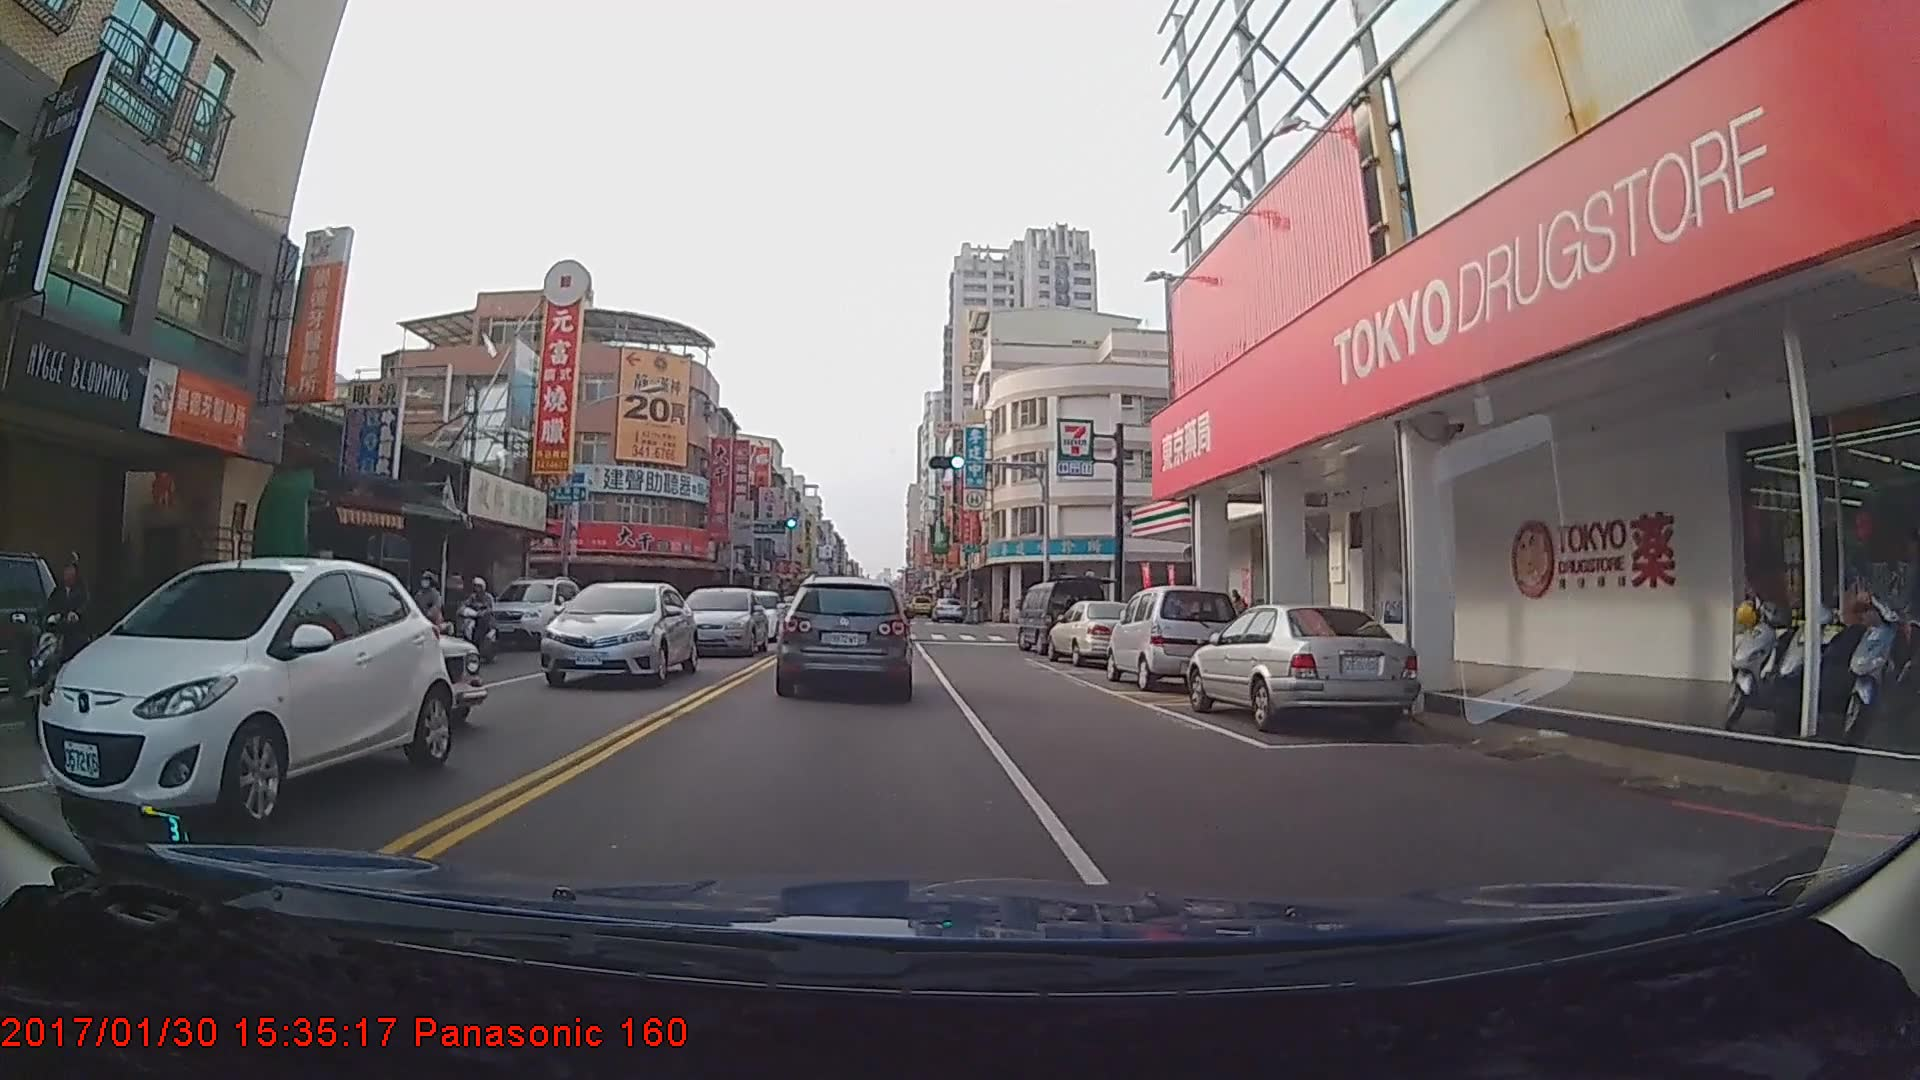rider: (29, 549, 98, 722)
vehicle: (34, 553, 452, 832), (1189, 599, 1417, 736), (533, 582, 689, 692), (781, 577, 910, 697), (1105, 586, 1240, 690), (480, 574, 580, 647), (1016, 578, 1105, 656), (675, 585, 767, 658), (1047, 601, 1146, 668), (929, 594, 964, 619)
